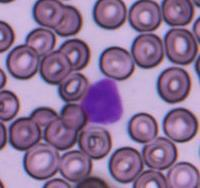L: (80, 74, 125, 126)
